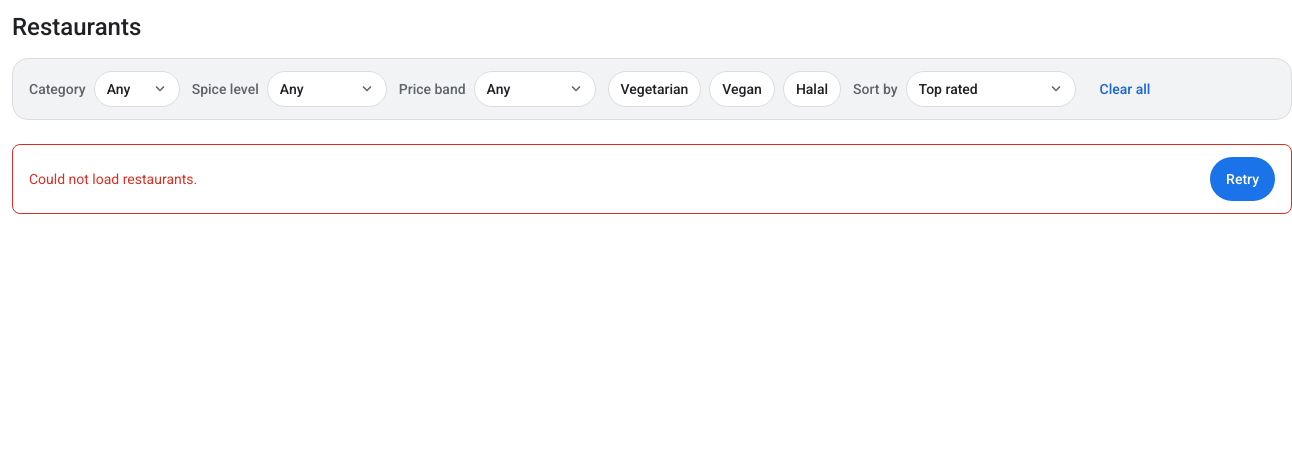
Scenario: SearchResultsComponent › shows an error with Retry that fetches again
Click the button "Retry" at coordinates (1243, 179), box 1210,157 -> 1275,201
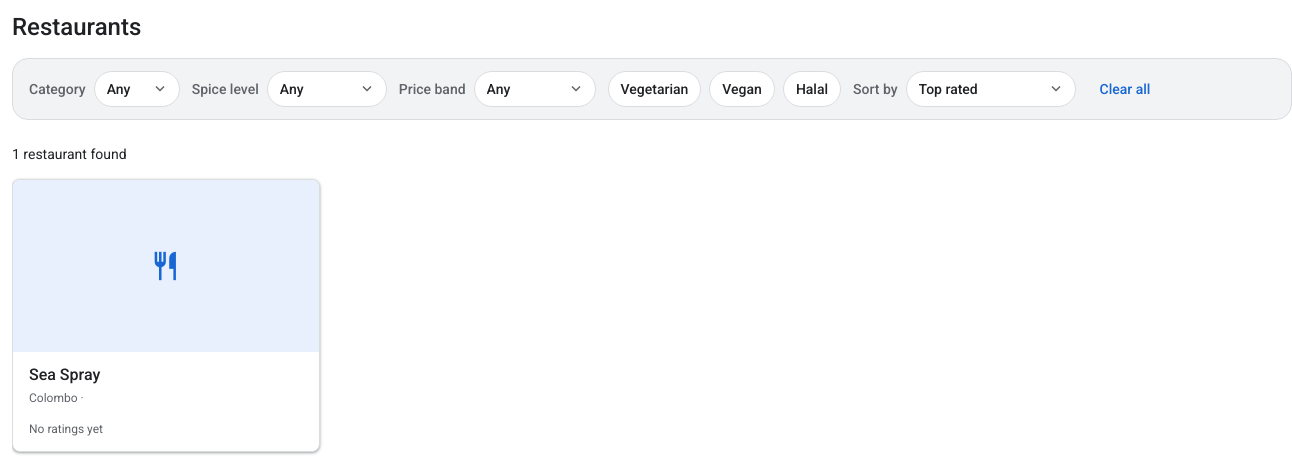
Now the number of links is 1, box 12,179 -> 320,452
